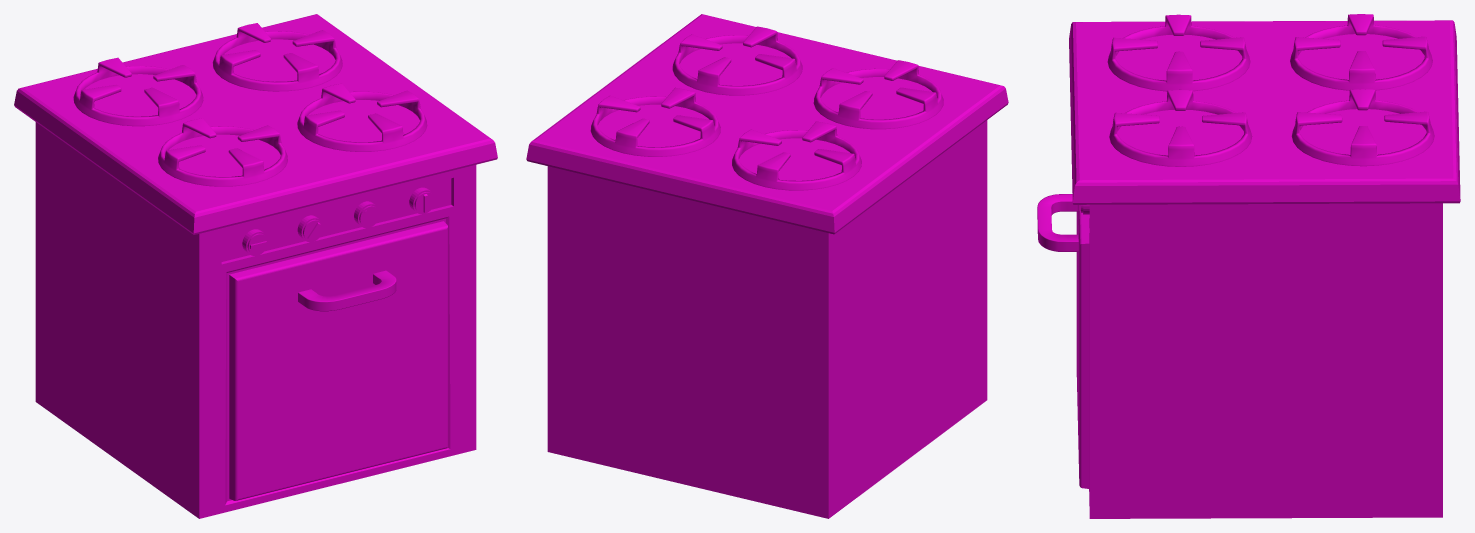
The model's file is FogãoCozinha.fbx.
The picture shows the model from 3 angles, left to right: view 1: azimuth 30°, elevation 25°; view 2: azimuth 150°, elevation 25°; view 3: azimuth 270°, elevation 25°; orthographic projection. The views are drawn at different scales.
Parts seen in each view (by area): view 1: Pegador; view 2: Pegador; view 3: Pegador.
Part boxes in pixels (x1,y1,x2,y2): Pegador: [14, 14, 497, 518]; Pegador: [526, 14, 1008, 518]; Pegador: [1037, 14, 1460, 518].
Size of the model in its own units: 1168 by 1194 by 1262.
